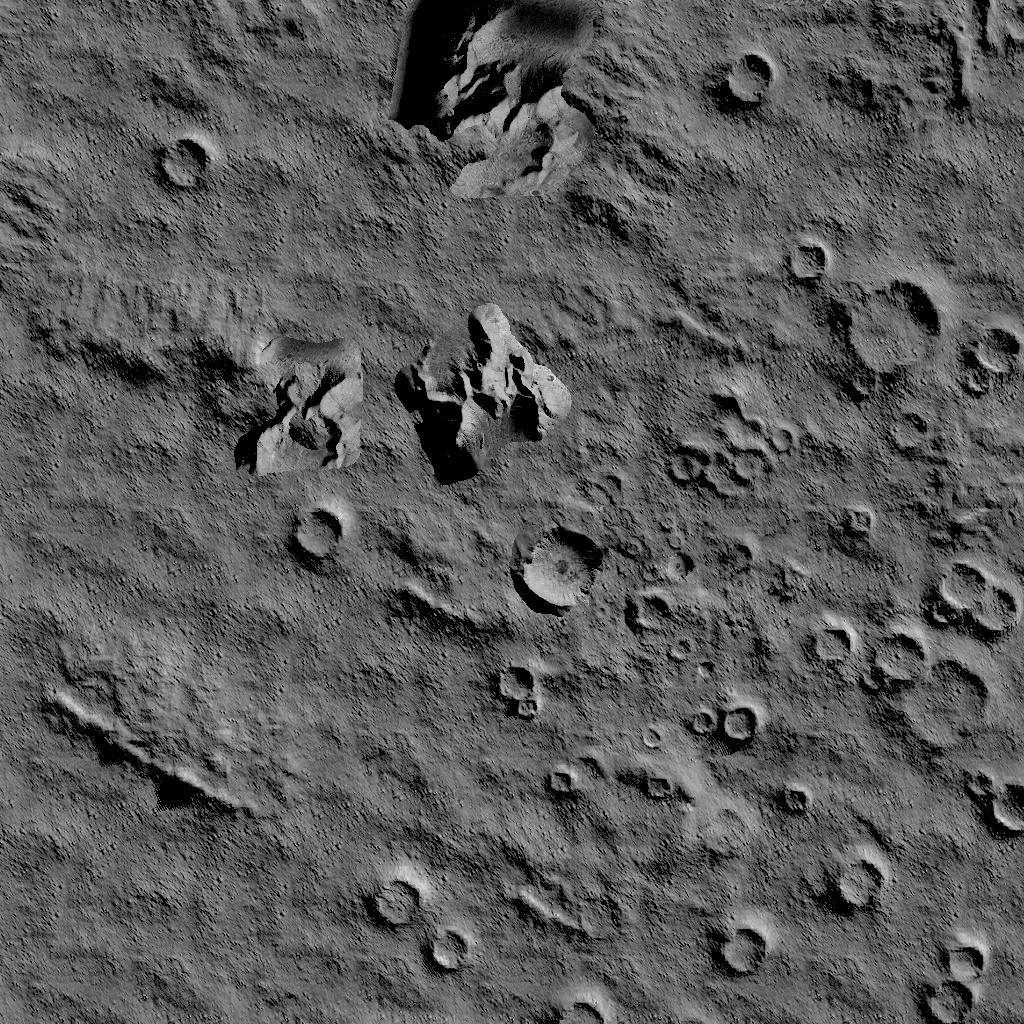Boulders: (398, 0, 670, 250), (32, 274, 362, 477), (34, 687, 264, 829), (395, 302, 570, 484), (823, 4, 1024, 118), (142, 2, 330, 110), (384, 575, 499, 643), (0, 150, 65, 258)
Crater: (786, 240, 936, 382), (664, 393, 796, 495), (868, 640, 988, 746), (370, 874, 472, 976), (516, 524, 600, 612), (929, 560, 1024, 628), (925, 932, 992, 1024), (962, 322, 1024, 402), (962, 766, 1024, 834), (288, 504, 348, 564), (720, 52, 776, 112), (154, 133, 212, 190), (688, 702, 760, 746), (624, 581, 680, 636), (714, 924, 768, 979), (496, 663, 543, 725), (834, 858, 886, 914), (810, 621, 853, 667), (839, 500, 881, 546), (556, 992, 610, 1024), (777, 778, 817, 816), (543, 764, 581, 798)
Plan surface: (0, 840, 360, 1024), (0, 486, 278, 676), (291, 652, 486, 831), (682, 126, 1024, 228), (228, 121, 388, 263)
